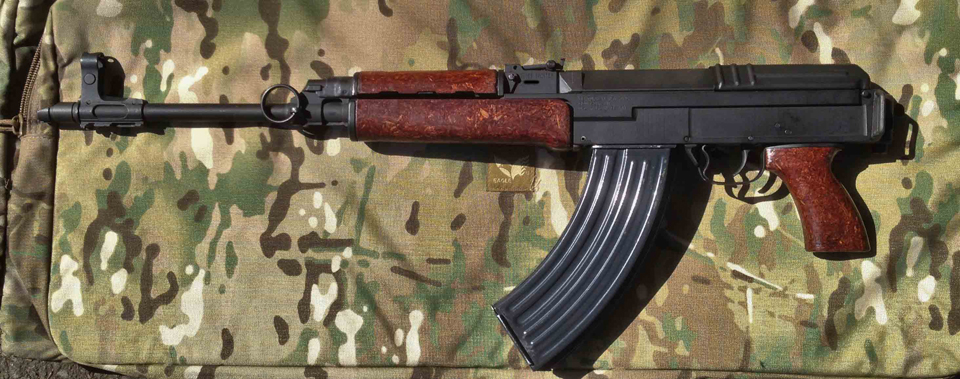Rifle: (37, 48, 906, 374)
